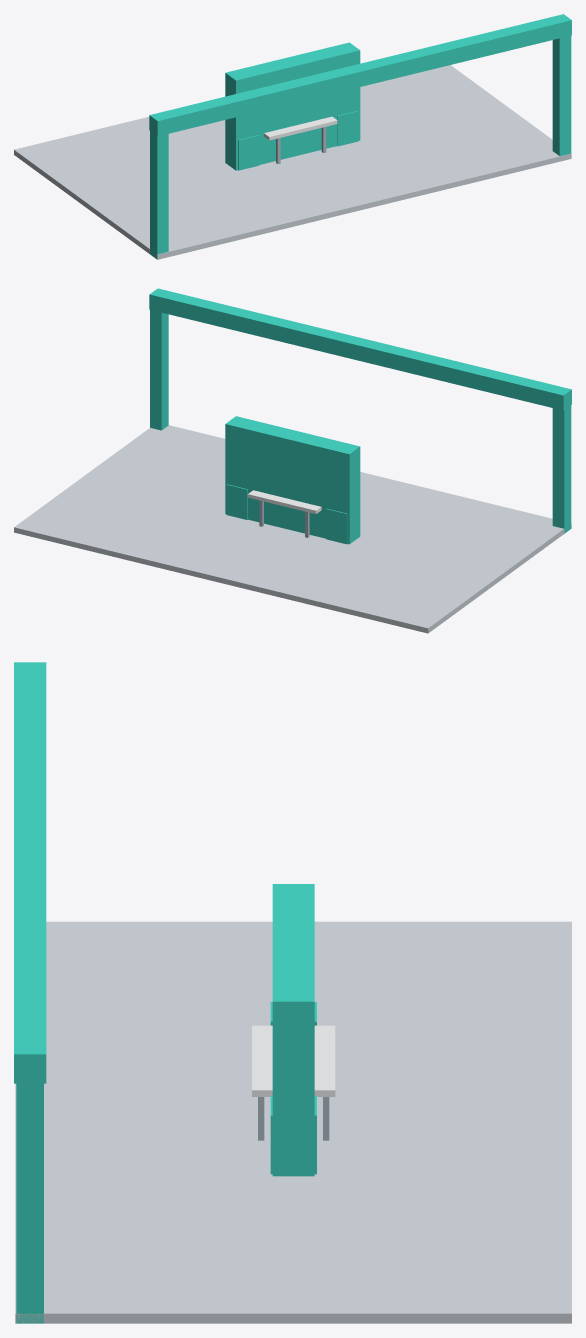
3 views of the same model, one above another, from view 1: azimuth 30°, elevation 25°; view 2: azimuth 150°, elevation 25°; view 3: azimuth 270°, elevation 25° (orthographic). The views are drawn at different scales.
Visible parts, largest first — view 1: Exhibition Booth Concept; view 2: Exhibition Booth Concept; view 3: Exhibition Booth Concept.
Part boxes in pixels (box(x1,y1,x2,y2)): Exhibition Booth Concept: box(14, 14, 571, 259); Exhibition Booth Concept: box(14, 288, 571, 633); Exhibition Booth Concept: box(14, 662, 571, 1323).
Bounding box in the file's own units: 10 × 3.2 × 6.02.
